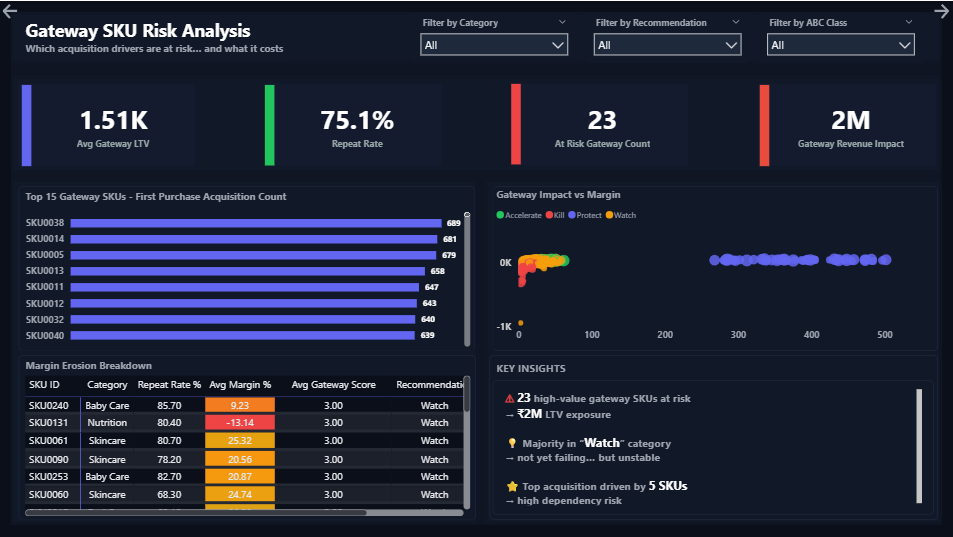

What the dashboard file says about the page in this screenshot:
{"tool":"powerbi","page":{"name":"Gateway & Risk","canvas":[1280,720],"ordinal":3},"visuals":[{"type":"shape","box":[14.9,14.9,1250.6,689.3],"z":0},{"type":"shape","box":[15,240.5,628,463.1],"z":1000},{"type":"shape","box":[14.9,14.9,1250.6,68],"z":2000},{"type":"shape","box":[14.9,101.2,1250.6,130],"z":3000},{"type":"shape","box":[652.5,240.5,613.4,463.1],"z":4000},{"type":"textbox","box":[28.6,18,365.3,63.1],"z":5000},{"type":"shape","box":[24.9,111.3,237.3,109.8],"z":6000},{"type":"shape","box":[356.1,111.3,237.3,109.8],"z":7000},{"type":"shape","box":[687.4,112,238,109.8],"z":8000},{"type":"shape","box":[1019.4,112,238,109.8],"z":9000},{"type":"shape","box":[25.6,249.6,613,221],"z":10000},{"type":"shape","box":[25.6,476.6,614.9,221],"z":11000},{"type":"shape","box":[657,476.6,602.9,221],"z":12000},{"type":"clusteredBarChart","title":"Top 15 Gateway SKUs - First Purchase Acquisition Count","fields":{"Category":["sku_rationalization_master.sku_id"],"Y":["_Measures_4.Total Gateway Acquisitions"]},"box":[28.6,254.1,608,216.5],"z":13000},{"type":"shape","box":[661.5,509.7,592.3,180.4],"z":14000},{"type":"textbox","box":[673.5,517.2,569.8,165.4],"z":15000},{"type":"textbox","box":[661.5,479.6,575.8,30.1],"z":16000},{"type":"pivotTable","title":"Margin Erosion Breakdown","fields":{"Rows":["sku_rationalization_master.sku_id"],"Values":["Min(sku_rationalization_master.category)","Sum(sku_rationalization_master.repeat_rate)","Avg(sku_rationalization_master.true_margin_pct)","_Measures_4.Avg Gateway Score","Min(sku_rationalization_master.recommendation)","Avg(sku_rationalization_master.Decision Risk Score)"]},"box":[28.6,481.1,607.4,216.5],"z":17000},{"type":"shape","box":[28.9,112.4,12.8,109.2],"z":18000},{"type":"shape","box":[355.9,112.8,13.2,108.4],"z":19000},{"type":"shape","box":[686.9,111.3,13.2,108.4],"z":20000},{"type":"shape","box":[1020.9,112.4,12.8,109.2],"z":21000},{"type":"cardVisual","fields":{"Data":["_Measures_4.Gateway Revenue Impact"]},"box":[1034.4,117.3,219.5,99.2],"z":22000},{"type":"cardVisual","fields":{"Data":["_Measures_4.At Risk Gateway Count"]},"box":[700.6,117.3,219.5,99.2],"z":23000},{"type":"cardVisual","fields":{"Data":["_Measures_4.Avg Gateway Repeat Rate"]},"box":[369.8,117.3,219.5,99.2],"z":24000},{"type":"cardVisual","fields":{"Data":["_Measures_4.Avg Gateway LTV"]},"box":[42.1,117.3,219.5,99.2],"z":25000},{"type":"shape","box":[661.5,249.6,598.4,221],"z":29000},{"type":"scatterChart","title":"Gateway Impact vs Margin","fields":{"X":["Avg(sku_rationalization_master.gateway_score_raw)"],"Y":["sku_rationalization_master.true_margin_pct"],"Series":["sku_rationalization_master.recommendation"],"Size":["Avg(sku_rationalization_master.avg_ltv_90d)"]},"box":[661.5,251.1,592.3,216.5],"z":30000},{"type":"actionButton","box":[1250.8,0,28.6,28.6],"z":30001},{"type":"actionButton","box":[0,0,28.6,28.6],"z":30002},{"type":"slicer","fields":{"Values":["sku_rationalization_master.category"]},"box":[554.8,16.5,218,67.7],"z":30003},{"type":"slicer","fields":{"Values":["sku_rationalization_master.abc_class"]},"box":[1020.8,16.5,218,67.7],"z":30004},{"type":"slicer","fields":{"Values":["sku_rationalization_master.recommendation"]},"box":[787.7,16.5,218.2,67.4],"z":30005}]}

Visuals, with their boxes in screenshot pixels (x1, y1, x2, y2), scaled from the page's 1280x720 canvas onto the 953x537 screenshot:
shape: bbox=(11, 11, 942, 525)
shape: bbox=(11, 179, 479, 525)
shape: bbox=(11, 11, 942, 62)
shape: bbox=(11, 75, 942, 172)
shape: bbox=(486, 179, 943, 525)
textbox: bbox=(21, 13, 293, 60)
shape: bbox=(19, 83, 195, 165)
shape: bbox=(265, 83, 442, 165)
shape: bbox=(512, 84, 689, 165)
shape: bbox=(759, 84, 936, 165)
shape: bbox=(19, 186, 475, 351)
shape: bbox=(19, 355, 477, 520)
shape: bbox=(489, 355, 938, 520)
"Top 15 Gateway SKUs - First Purchase Acquisition Count" clusteredBarChart: bbox=(21, 190, 474, 351)
shape: bbox=(493, 380, 933, 515)
textbox: bbox=(501, 386, 926, 509)
textbox: bbox=(493, 358, 921, 380)
"Margin Erosion Breakdown" pivotTable: bbox=(21, 359, 474, 520)
shape: bbox=(22, 84, 31, 165)
shape: bbox=(265, 84, 275, 165)
shape: bbox=(511, 83, 521, 164)
shape: bbox=(760, 84, 770, 165)
cardVisual - _Measures_4.Gateway Revenue Impact: bbox=(770, 87, 934, 161)
cardVisual - _Measures_4.At Risk Gateway Count: bbox=(522, 87, 685, 161)
cardVisual - _Measures_4.Avg Gateway Repeat Rate: bbox=(275, 87, 439, 161)
cardVisual - _Measures_4.Avg Gateway LTV: bbox=(31, 87, 195, 161)
shape: bbox=(493, 186, 938, 351)
"Gateway Impact vs Margin" scatterChart: bbox=(493, 187, 933, 349)
actionButton: bbox=(931, 0, 952, 21)
actionButton: bbox=(0, 0, 21, 21)
slicer - sku_rationalization_master.category: bbox=(413, 12, 575, 63)
slicer - sku_rationalization_master.abc_class: bbox=(760, 12, 922, 63)
slicer - sku_rationalization_master.recommendation: bbox=(586, 12, 749, 63)
